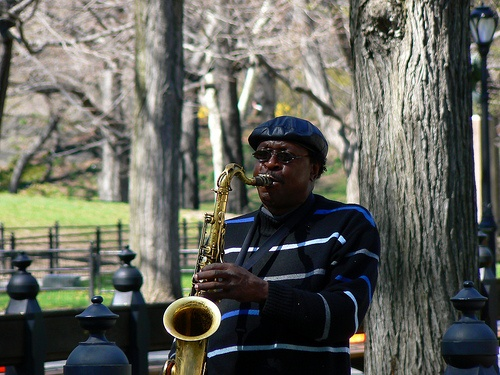head: (253, 117, 327, 210)
person: (185, 114, 377, 373)
